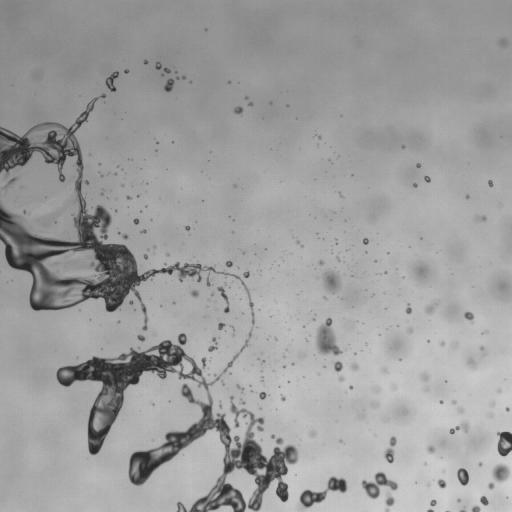droplet: (361, 472, 397, 498), (316, 318, 341, 355), (323, 269, 341, 294), (497, 431, 511, 456), (492, 464, 510, 482), (105, 71, 118, 91), (457, 468, 468, 485), (425, 301, 437, 314), (164, 79, 174, 91), (464, 312, 473, 322), (437, 479, 446, 488), (334, 361, 342, 371), (420, 373, 429, 381), (480, 496, 488, 505), (234, 106, 242, 113), (190, 290, 198, 297), (259, 392, 267, 399), (471, 505, 480, 511), (476, 216, 486, 221), (499, 39, 506, 46), (137, 334, 144, 341), (351, 363, 358, 370), (427, 446, 434, 453), (218, 322, 224, 330), (155, 62, 161, 69), (225, 261, 232, 267), (488, 482, 494, 489), (206, 278, 211, 286), (424, 176, 430, 182), (133, 218, 139, 224), (243, 271, 249, 277), (468, 359, 474, 365), (309, 430, 315, 436), (223, 271, 230, 276), (164, 68, 170, 73), (488, 180, 493, 186), (122, 233, 127, 239), (363, 238, 368, 244), (374, 385, 379, 391), (458, 407, 463, 413), (407, 328, 412, 333), (339, 376, 344, 381), (281, 395, 285, 401), (185, 226, 190, 230), (141, 229, 146, 233), (319, 260, 323, 265), (240, 399, 244, 404), (374, 403, 378, 408), (124, 69, 128, 73), (416, 163, 420, 167), (382, 368, 386, 372), (452, 400, 456, 404), (505, 407, 509, 411), (478, 462, 482, 466), (100, 94, 105, 97), (219, 402, 222, 407), (85, 180, 88, 184), (413, 183, 416, 187), (339, 192, 342, 196), (126, 196, 130, 199), (480, 346, 483, 350), (349, 386, 353, 389), (144, 60, 147, 63), (182, 76, 185, 79), (249, 102, 252, 105), (466, 195, 469, 198), (144, 255, 147, 258), (336, 257, 339, 260), (71, 262, 74, 265), (441, 342, 444, 345), (393, 386, 396, 389), (384, 418, 387, 421), (318, 136, 321, 138), (402, 145, 404, 148), (296, 241, 299, 243), (384, 271, 387, 273), (130, 301, 132, 304), (440, 400, 442, 403), (491, 403, 494, 405), (457, 499, 460, 501), (166, 253, 168, 255), (211, 294, 213, 296), (324, 297, 326, 299), (262, 361, 264, 363), (362, 415, 364, 417)
ligament: (0, 97, 217, 330), (56, 330, 298, 511), (297, 476, 347, 511), (233, 275, 254, 323), (384, 436, 396, 463), (218, 286, 229, 312), (450, 421, 469, 433), (384, 492, 394, 511), (208, 337, 217, 351), (51, 210, 61, 222), (427, 500, 436, 511), (7, 178, 16, 185), (406, 303, 411, 314), (236, 385, 243, 391), (50, 262, 57, 265), (42, 223, 48, 226), (460, 509, 465, 511), (446, 510, 450, 511)
